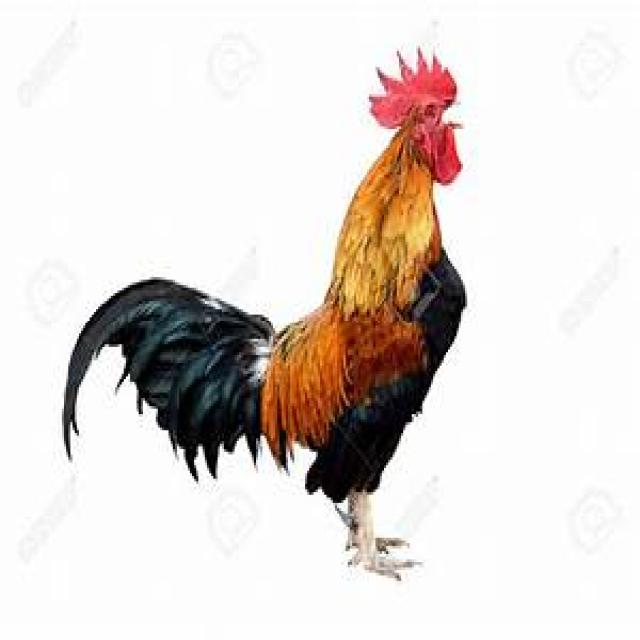hen: (73, 46, 467, 567)
